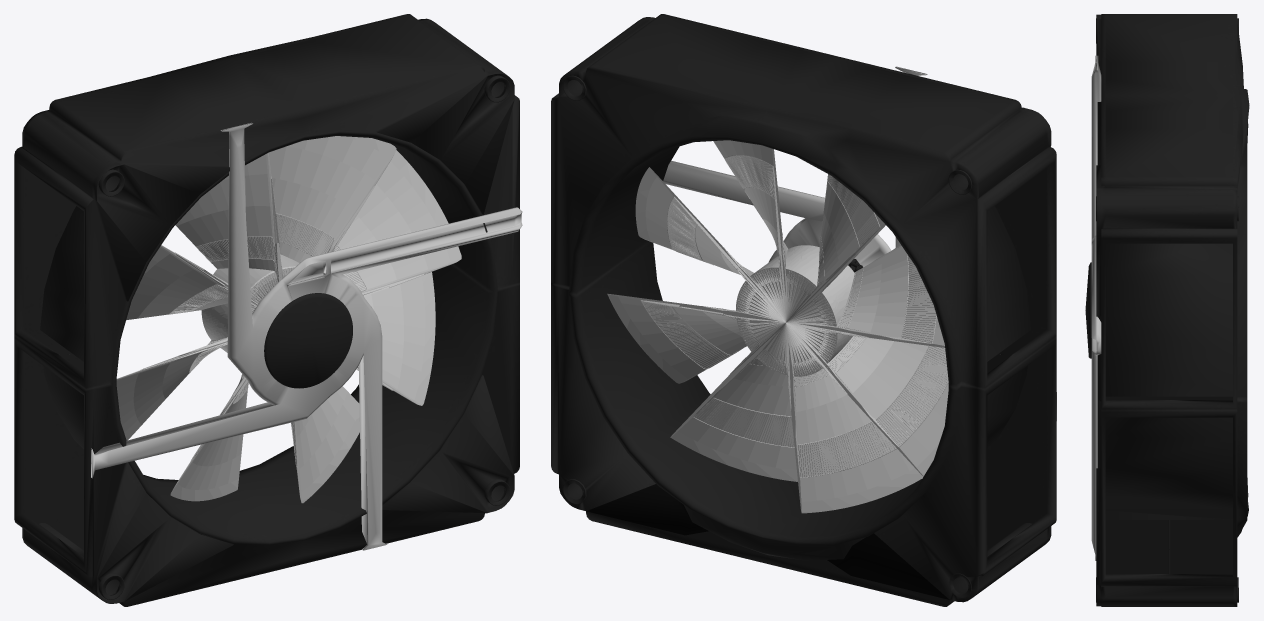
The model's file is fans.glb.
The picture shows the model from 3 angles, left to right: view 1: azimuth 30°, elevation 25°; view 2: azimuth 150°, elevation 25°; view 3: azimuth 270°, elevation 25°; orthographic projection. The views are drawn at different scales.
Size of the model in its own units: 378 by 380 by 131.
4 materials, 4 textured.
